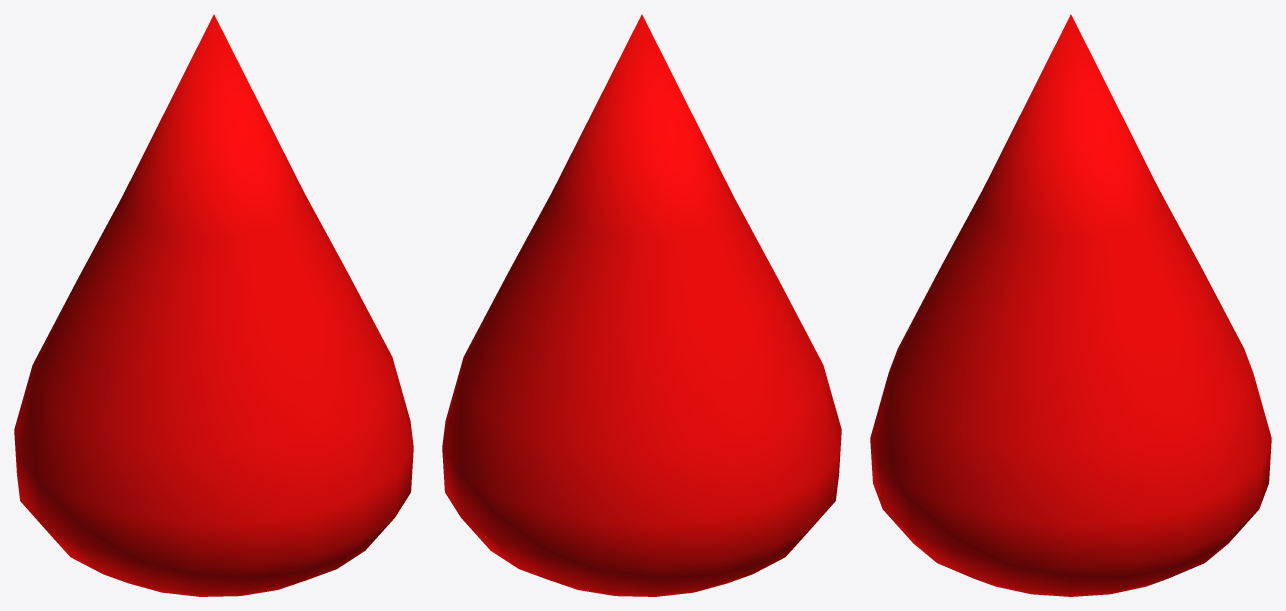
Rendered from Asteroids_Blast.fbx.
3 views of the same model, side by side, from view 1: azimuth 30°, elevation 25°; view 2: azimuth 150°, elevation 25°; view 3: azimuth 270°, elevation 25° (orthographic).
Parts seen in each view (by area): view 1: pSphere1; view 2: pSphere1; view 3: pSphere1.
Part boxes in pixels (x1,y1,x2,y2): pSphere1: (14,14,413,596); pSphere1: (442,14,841,596); pSphere1: (870,14,1271,596).
Size of the model in its own units: 1.43 by 2.18 by 1.43.
